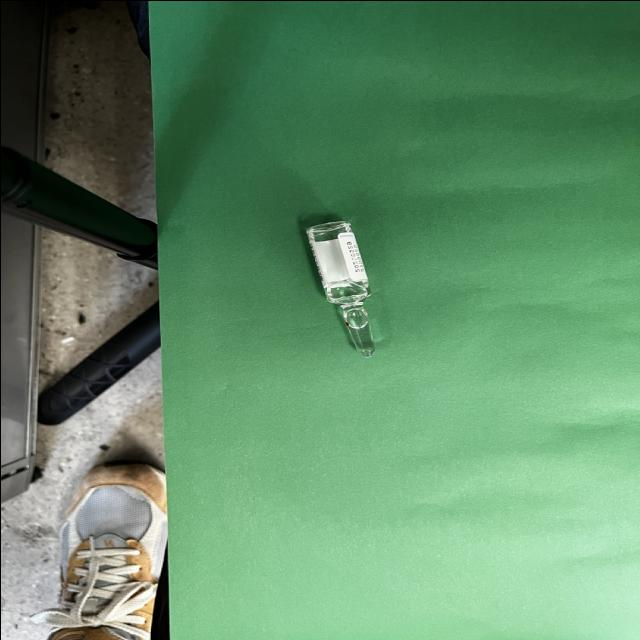Ampoules: (305, 220, 374, 356)
